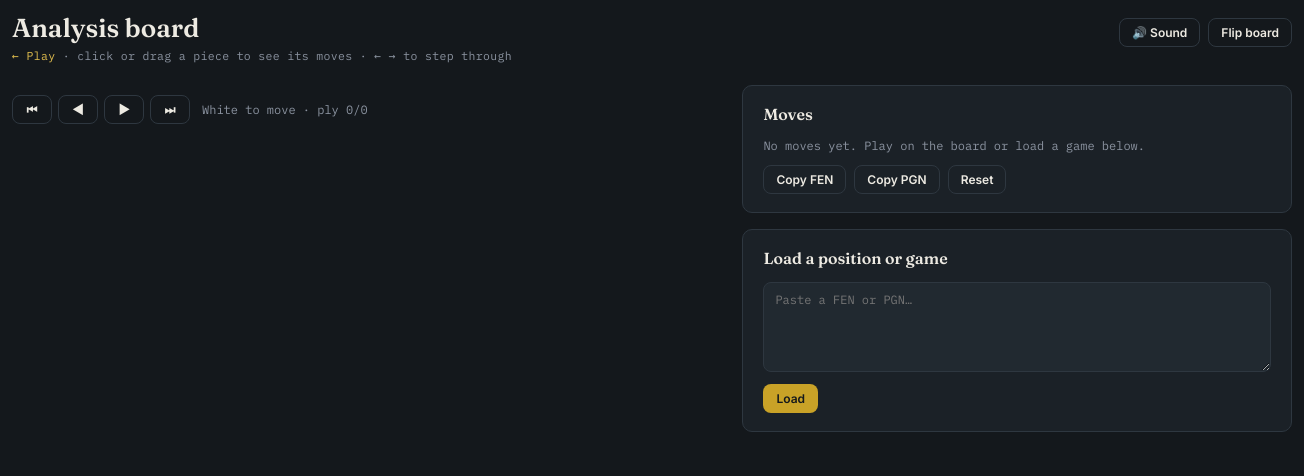
Scenario: AnalysisBoard › loads a PGN
Type "1. d4 d5 2. c4 e6" into the text box with placeholder "Paste a FEN or PGN…". click: (1017, 327)
box: [763,282,1271,372]
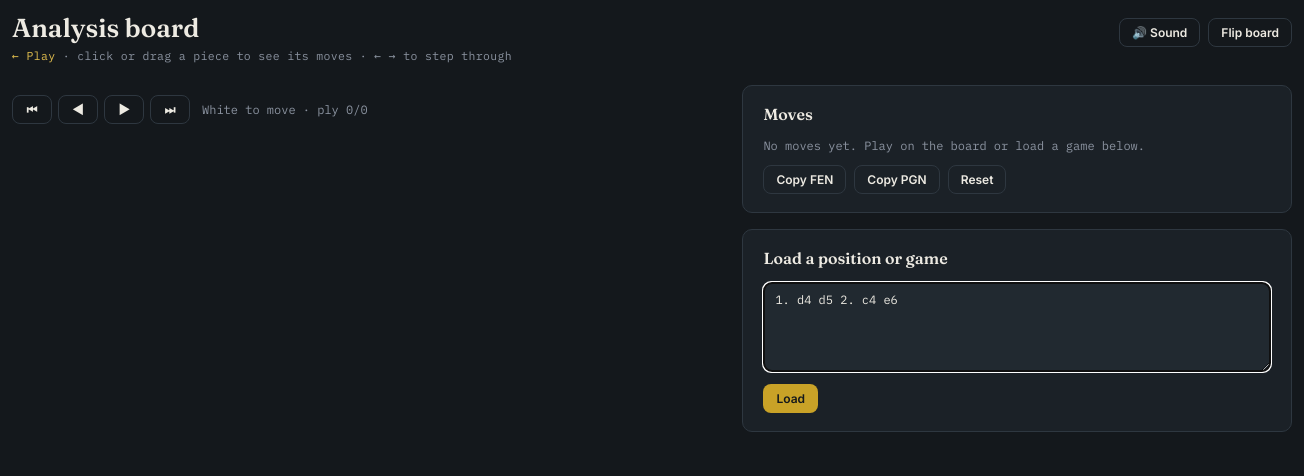
Click the button "Load". click: (791, 398)
box: [763,384,818,413]
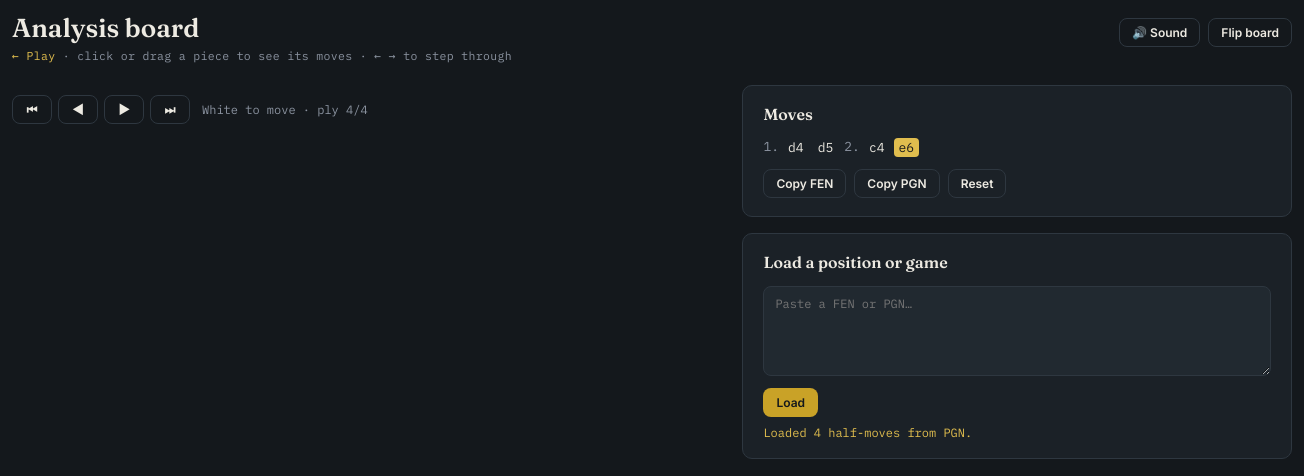
Check: the text "Loaded 4 half-moves from PGN." is shown, box [763,425,972,440]
Check: the button "d4" is shown, box [783,138,809,157]
Check: the text "White to move · ply 4/4" is shown, box [202,102,368,117]
